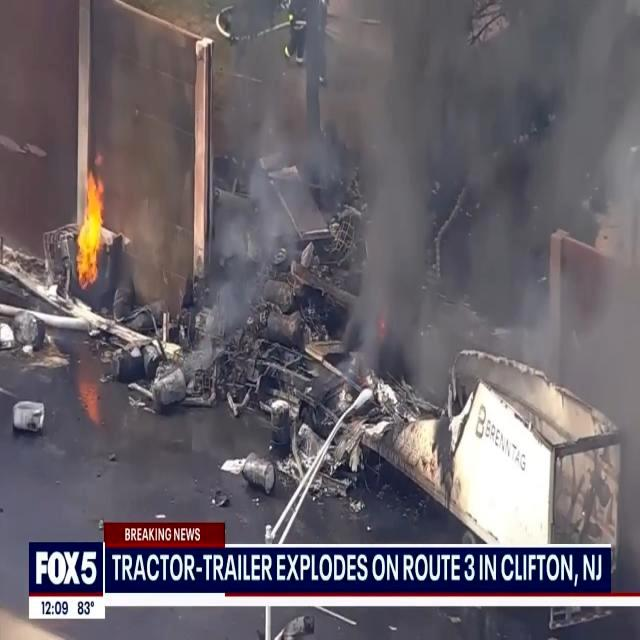fire: (70, 177, 108, 287)
